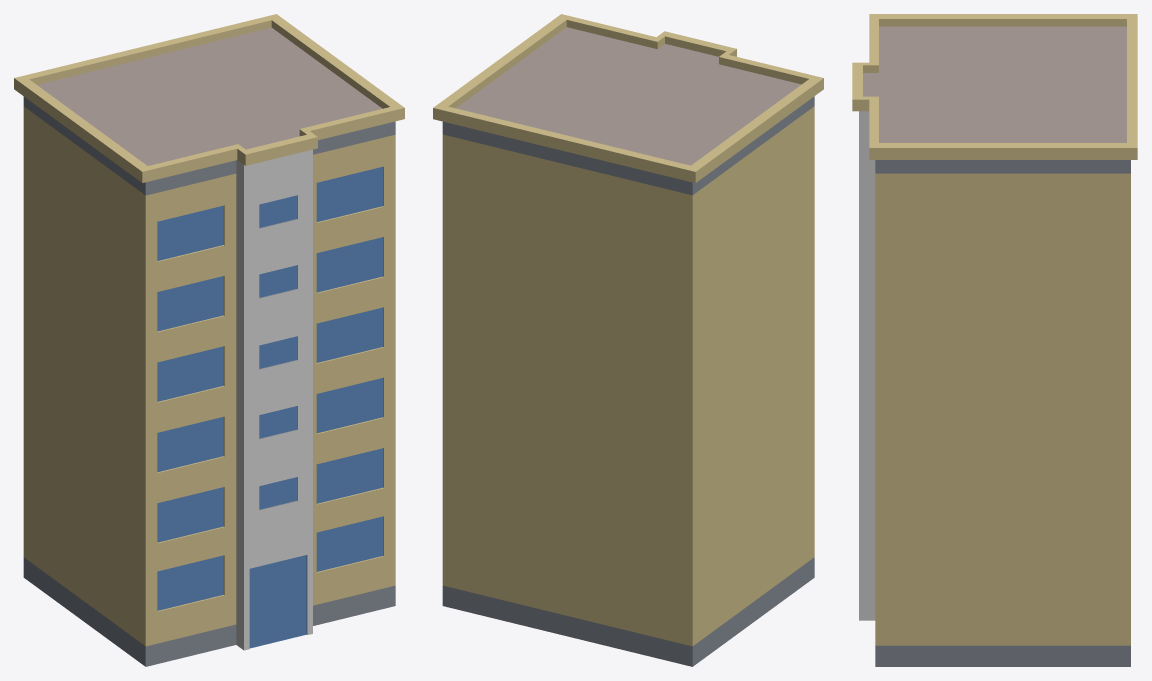
File: city_16.FBX
3 views of the same model, side by side, from view 1: azimuth 30°, elevation 25°; view 2: azimuth 150°, elevation 25°; view 3: azimuth 270°, elevation 25° (orthographic). The views are drawn at different scales.
Parts seen in each view (by area): view 1: city_15; view 2: city_15; view 3: city_15.
Part boxes in pixels (<box>): city_15: <box>14,14,404,666</box>; city_15: <box>433,14,823,666</box>; city_15: <box>852,14,1137,666</box>.
Size of the model in its own units: 3284 by 5963 by 2956.
